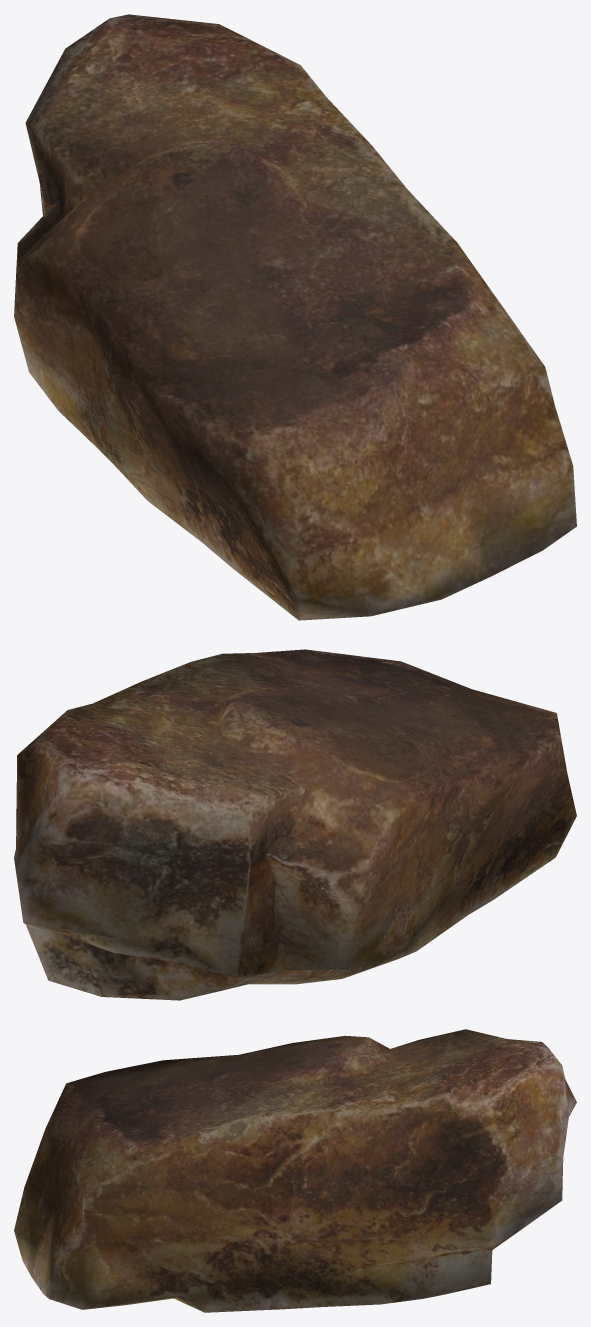
The model's file is rock_07.glb.
3 renders of one model, top to bottom at view 1: azimuth 30°, elevation 25°; view 2: azimuth 150°, elevation 25°; view 3: azimuth 270°, elevation 25°, orthographic. The views are drawn at different scales.
Parts seen in each view (by area): view 1: rock_07_lo; view 2: rock_07_lo; view 3: rock_07_lo.
Part boxes in pixels (<box>): rock_07_lo: <box>14,14,576,620</box>; rock_07_lo: <box>14,649,576,1000</box>; rock_07_lo: <box>14,1029,576,1312</box>.
Bounding box in the file's own units: 0.1686 × 0.1418 × 0.3215.
1 material, 1 textured.
